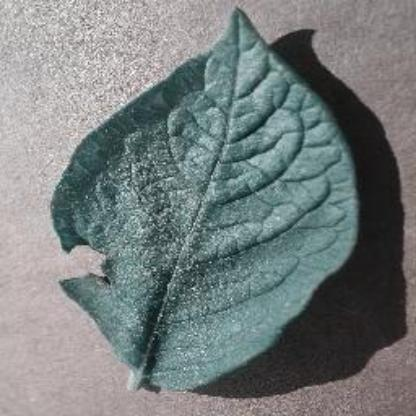Healthy-plant: (51, 7, 367, 392)
